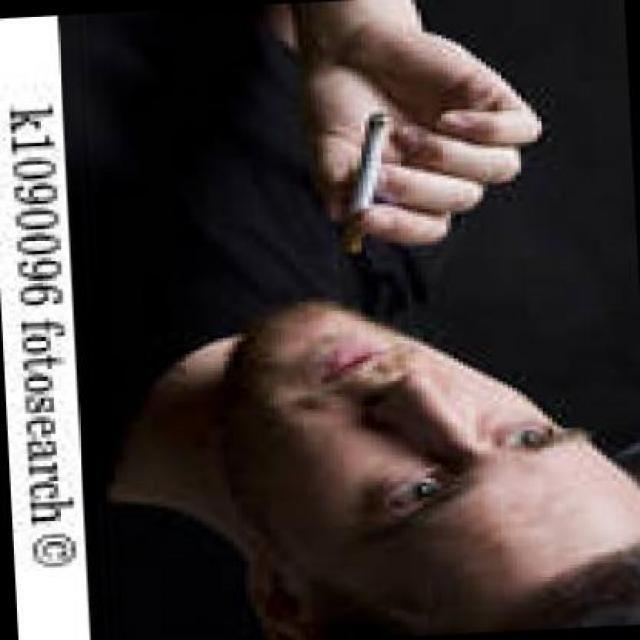smoke: (324, 109, 398, 254)
